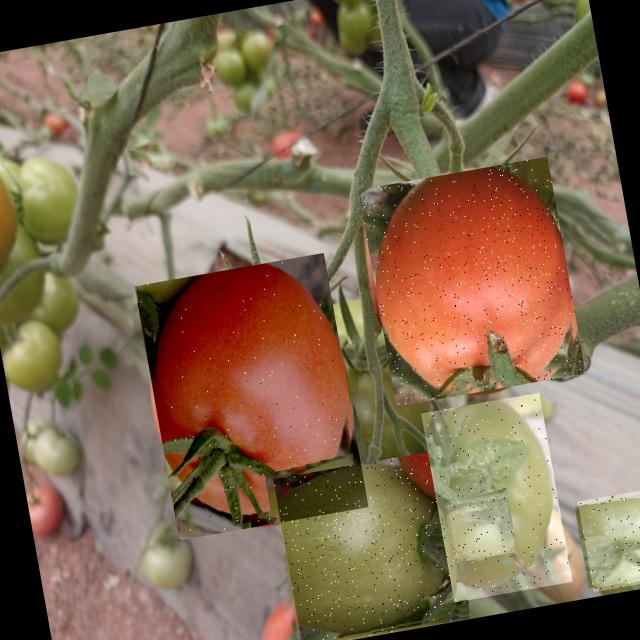Ripe Tomato: (134, 252, 368, 540), (358, 156, 585, 406)
Unripe Tomato: (273, 449, 470, 640), (420, 392, 572, 602), (577, 485, 640, 592), (446, 492, 516, 562)
